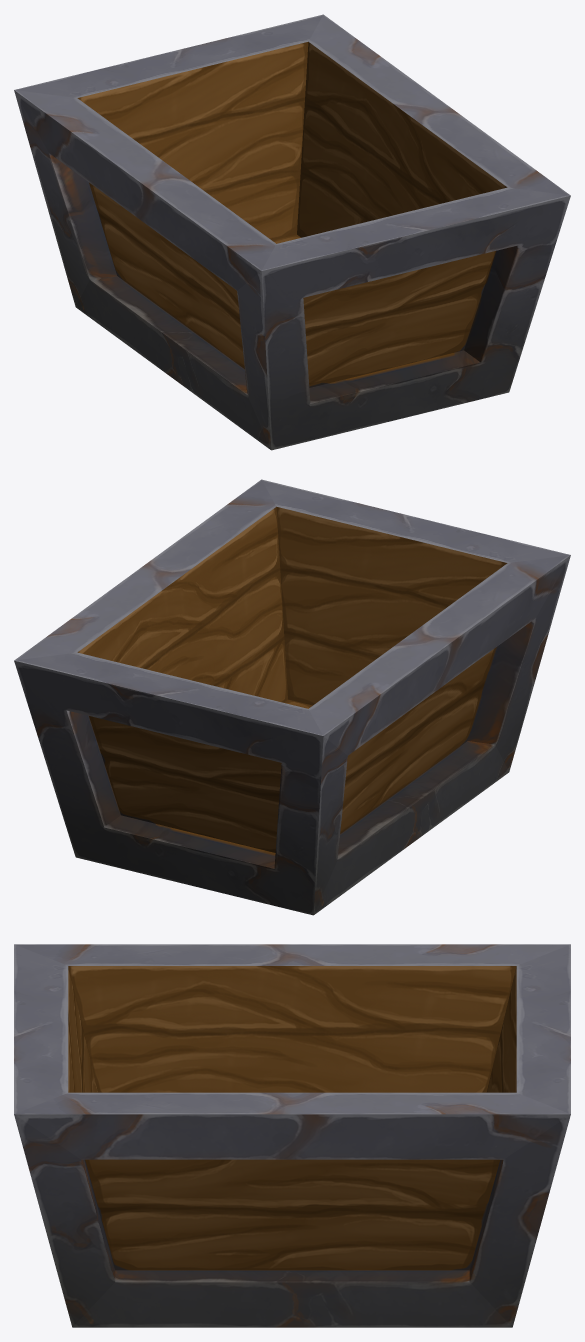
File: Trolley.FBX
The picture shows the model from 3 angles, top to bottom: view 1: azimuth 30°, elevation 25°; view 2: azimuth 150°, elevation 25°; view 3: azimuth 270°, elevation 25°; orthographic projection. The views are drawn at different scales.
Visible parts, largest first — view 1: Trolley; view 2: Trolley; view 3: Trolley.
Part boxes in pixels (left/top/right/bottom): Trolley: left=14, top=14, right=570, bottom=450; Trolley: left=14, top=479, right=570, bottom=915; Trolley: left=14, top=944, right=570, bottom=1327.
Bounding box in the file's own units: 0.7603 × 0.486 × 1.05.
